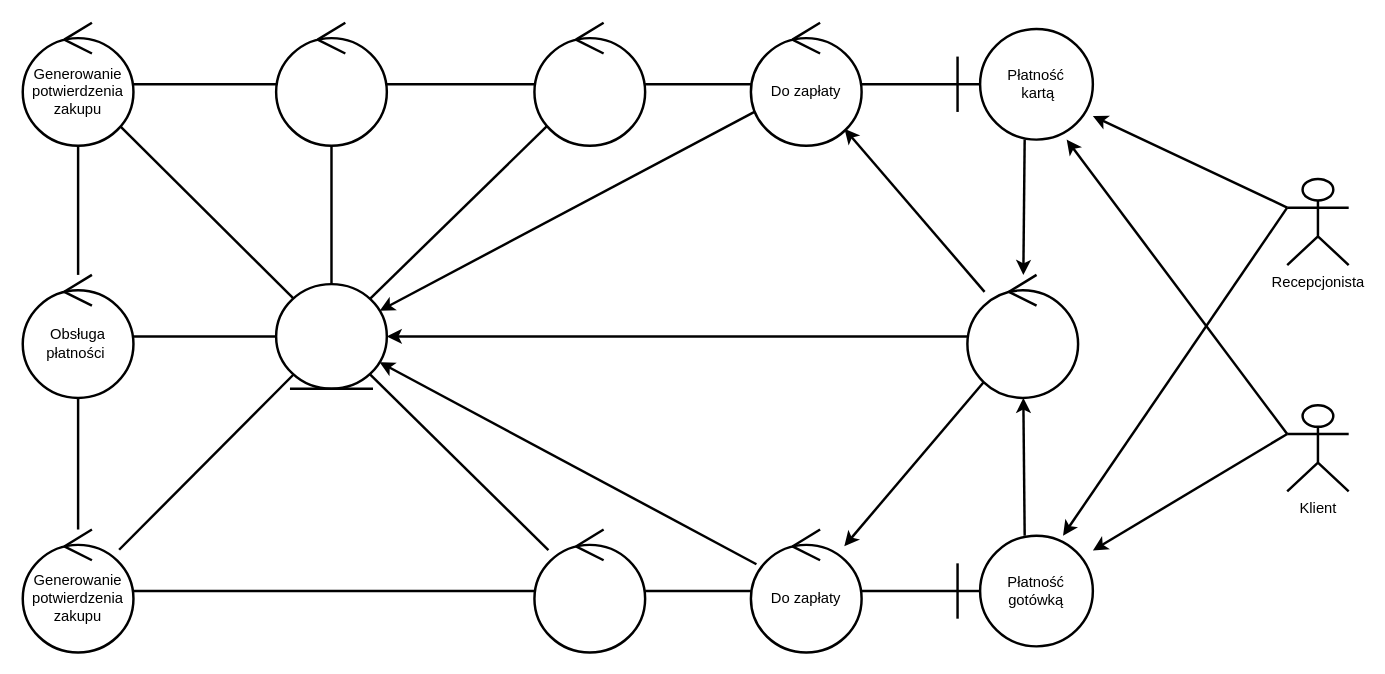
Some shapes in this 1385 by 674 pixel diagram are drawn without their labels. Here are the shapes that lost their labels. From the top down, the centre of each, then its label:
[330,83]: Potwierdzenie płatności przez banku
[589,83]: Obróbka transakcji przez operatora kart
[330,335]: Baza danych
[1022,336]: Algorytm zniżek
[589,590]: Obróbka transakcji gotówkowej
